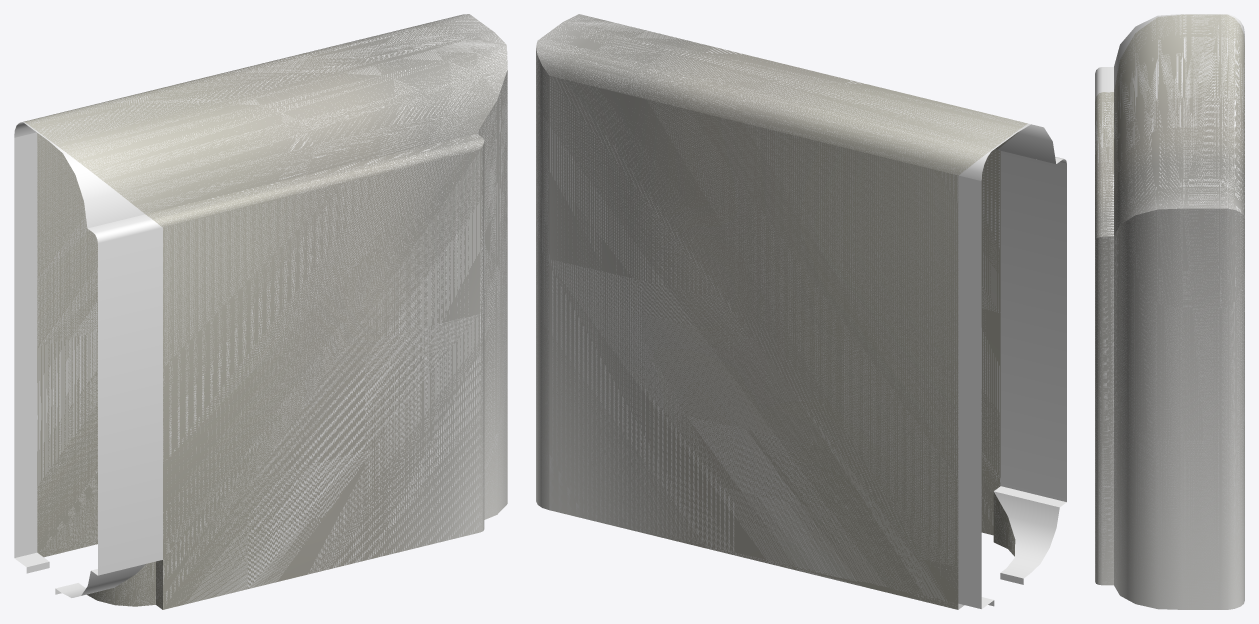
The model's file is original-58.obj.
3 renders of one model, left to right at view 1: azimuth 30°, elevation 25°; view 2: azimuth 150°, elevation 25°; view 3: azimuth 270°, elevation 25°, orthographic. The views are drawn at different scales.
Visible parts, largest first — view 1: DF_11_TR2/DF_11_TR/mesh21/mesh21-geometry#mesh21-geometry; view 2: DF_11_TR2/DF_11_TR/mesh21/mesh21-geometry#mesh21-geometry; view 3: DF_11_TR2/DF_11_TR/mesh21/mesh21-geometry#mesh21-geometry.
Part boxes in pixels (left/top/right/bottom): DF_11_TR2/DF_11_TR/mesh21/mesh21-geometry#mesh21-geometry: left=14, top=14, right=507, bottom=609; DF_11_TR2/DF_11_TR/mesh21/mesh21-geometry#mesh21-geometry: left=536, top=14, right=1066, bottom=609; DF_11_TR2/DF_11_TR/mesh21/mesh21-geometry#mesh21-geometry: left=1095, top=14, right=1244, bottom=609.
Size of the model in its own units: 0.0996 by 0.0958 by 0.0324.
